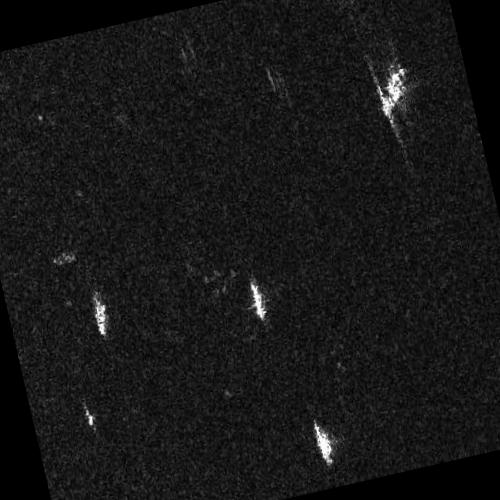ship: (379, 68, 405, 118), (312, 419, 333, 466), (91, 290, 108, 336), (249, 279, 265, 320), (84, 406, 95, 428)
